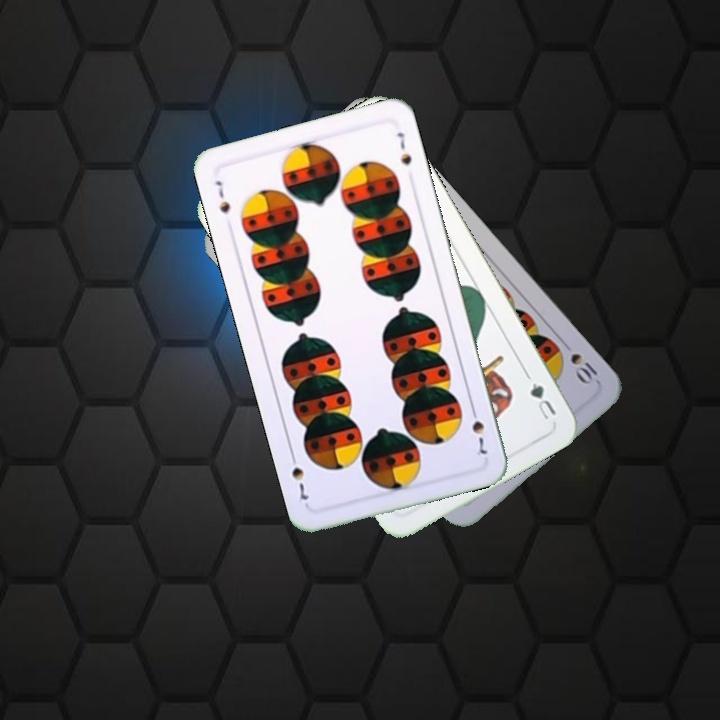GU: (526, 378, 559, 423)
S10: (566, 349, 601, 389)
S7: (467, 402, 490, 458), (211, 176, 233, 216)
